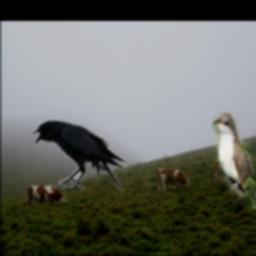Crow: (31, 121, 127, 191)
Cuckoo: (212, 113, 256, 211)
